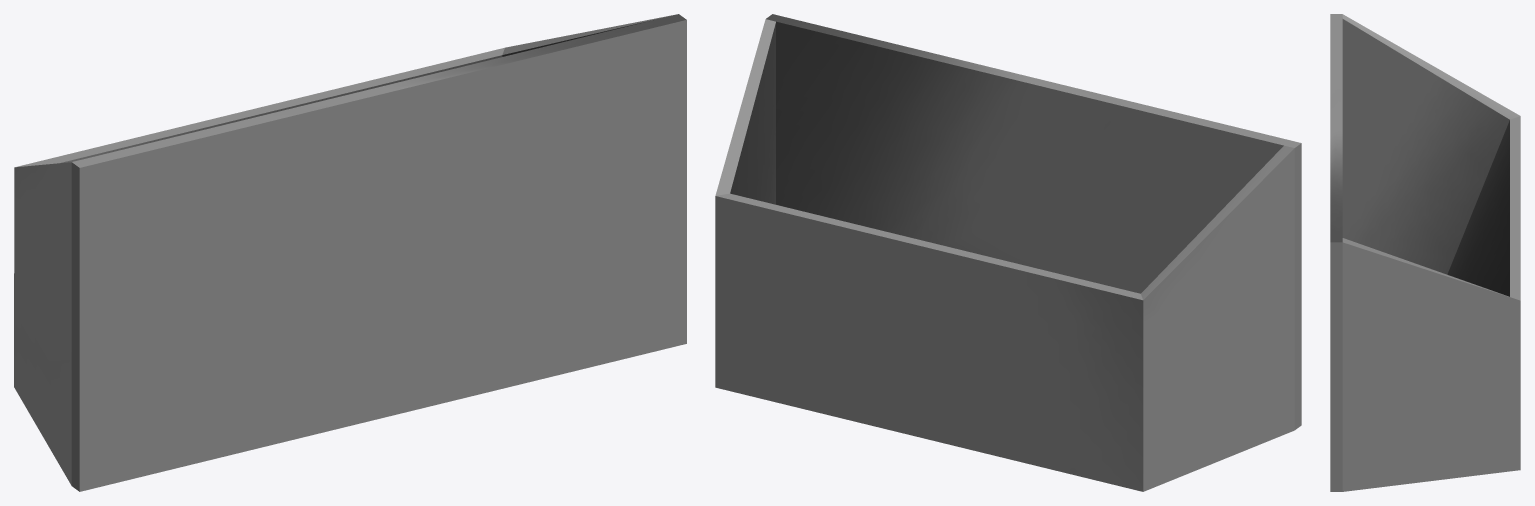
The model's file is itembag.obj.
The picture shows the model from 3 angles, left to right: view 1: azimuth 30°, elevation 25°; view 2: azimuth 150°, elevation 25°; view 3: azimuth 270°, elevation 25°; orthographic projection. The views are drawn at different scales.
Parts seen in each view (by area): view 1: BagStorage_bmdl; view 2: BagStorage_bmdl; view 3: BagStorage_bmdl.
Part boxes in pixels (x1,y1,x2,y2): BagStorage_bmdl: (14,14,686,491); BagStorage_bmdl: (715,14,1301,491); BagStorage_bmdl: (1330,14,1520,491).
Bounding box in the file's own units: 1 × 0.51 × 0.3527.
